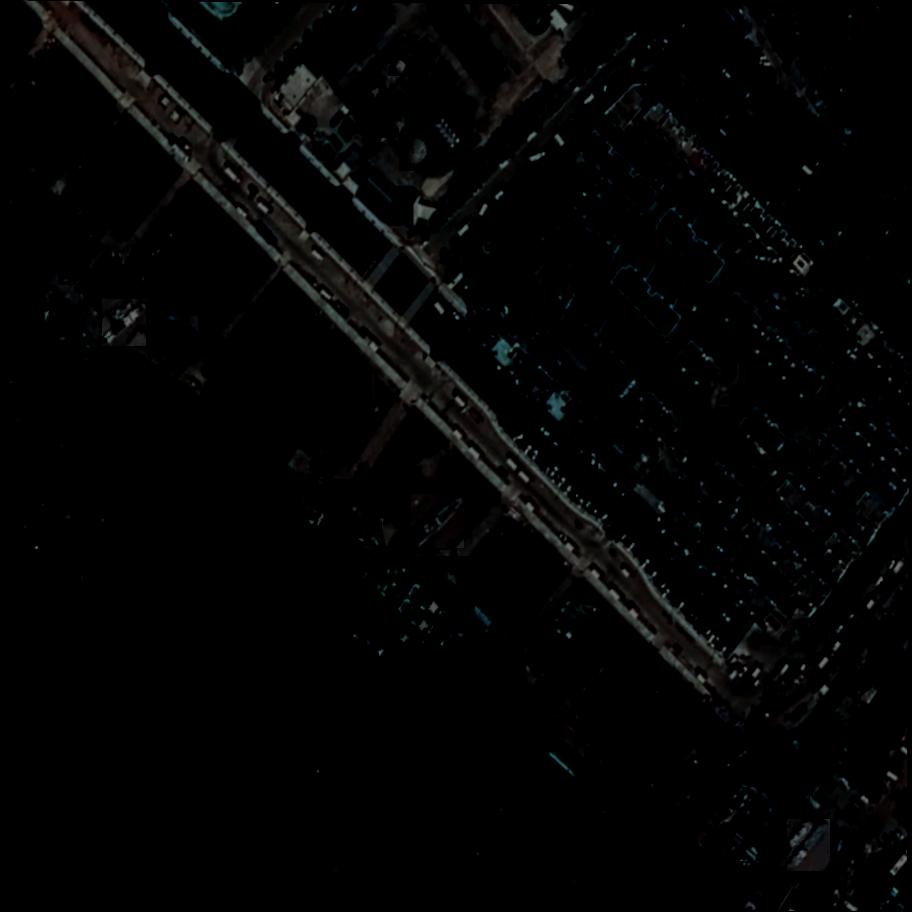ship: (270, 475, 388, 556), (359, 564, 461, 654), (365, 557, 479, 634), (711, 734, 808, 823), (739, 759, 812, 877), (41, 285, 100, 359), (720, 788, 774, 862), (365, 632, 421, 693), (409, 495, 469, 549), (383, 615, 432, 666), (788, 819, 833, 872), (379, 625, 422, 680), (100, 299, 150, 346), (49, 306, 84, 372), (638, 750, 680, 802), (777, 816, 813, 872), (58, 227, 91, 278), (145, 325, 194, 359), (149, 316, 202, 344), (148, 222, 181, 264)
storage-tank: (400, 127, 440, 172), (379, 96, 415, 139), (388, 49, 413, 77), (363, 76, 386, 102)
